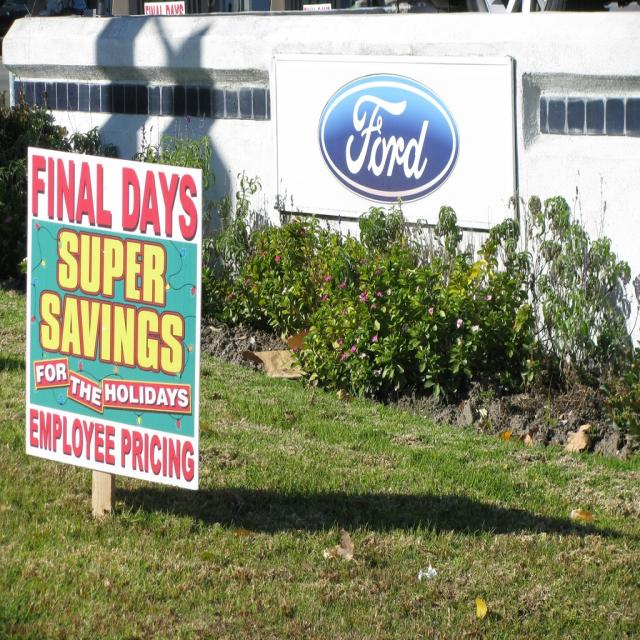ford: (316, 71, 464, 205)
